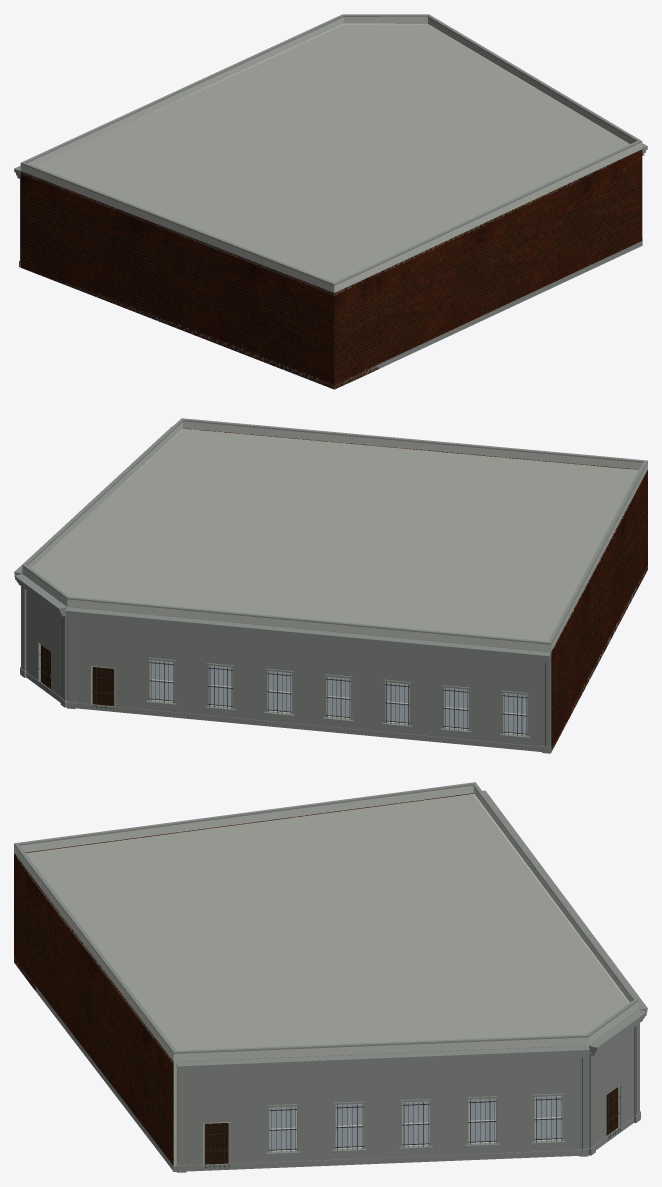
The model's file is building.glb.
The picture shows the model from 3 angles, top to bottom: view 1: azimuth 30°, elevation 25°; view 2: azimuth 150°, elevation 25°; view 3: azimuth 270°, elevation 25°; orthographic projection. The views are drawn at different scales.
Visible parts, largest first — view 1: roof/main:0/roof_slab#0001, main:0/edge0/z0/main:0/edge0/z0/wall_0_0, main:0/edge3/z0/main:0/edge3/z0/wall_0_0, roof/main:0/parapet#0001, roof/main:0/parapet_cap#0002, main:0/edge1/z0/main:0/edge1/z0/wall_0_0, roof/main:0/parapet_cap#0001, main:0/edge3/z0/plinth#0001, main:0/edge2/z0/main:0/edge2/z0/wall_0_0, main:0/edge0/z0/plinth#0001; view 2: roof/main:0/roof_slab#0001, main:0/edge7/z0/main:0/edge7/z0/coating_0_0_0/clip20, main:0/edge0/z0/main:0/edge0/z0/wall_0_0, roof/main:0/parapet#0001, roof/main:0/parapet_cap#0002, main:0/edge7/z0/main:0/edge7/z0/coating_0_0_0/clip2, main:0/edge7/z0/plinth#0001, main:0/edge6/z0/main:0/edge6/z0/coating_0_0_0, main:0/edge7/z0/proj_cornice_02/cornice_drip#0001, roof/main:0/parapet_cap#0001, main:0/edge7/z0/proj_cornice_02/cornice_step#0003, main:0/edge7/z0/proj_cornice_02/cornice_step#0001 (+23 smaller); view 3: roof/main:0/roof_slab#0001, main:0/edge5/z0/main:0/edge5/z0/coating_0_0_0, main:0/edge3/z0/main:0/edge3/z0/wall_0_0, roof/main:0/parapet#0001, roof/main:0/parapet_cap#0002, main:0/edge6/z0/main:0/edge6/z0/coating_0_0_0, main:0/edge5/z0/plinth#0001, main:0/edge5/z0/proj_cornice_02/cornice_drip#0001, roof/main:0/parapet_cap#0001, main:0/edge1/z0/main:0/edge1/z0/wall_0_0, main:0/edge5/z0/proj_cornice_02/cornice_step#0003, main:0/edge5/z0/proj_cornice_02/cornice_step#0002 (+12 smaller).
Part boxes in pixels (box(x1,y1,x2,y2)): roof/main:0/roof_slab#0001: box(20, 24, 633, 295); main:0/edge0/z0/main:0/edge0/z0/wall_0_0: box(20, 171, 334, 388); main:0/edge3/z0/main:0/edge3/z0/wall_0_0: box(376, 149, 642, 369); roof/main:0/parapet#0001: box(20, 17, 642, 292); roof/main:0/parapet_cap#0002: box(21, 14, 641, 284); main:0/edge1/z0/main:0/edge1/z0/wall_0_0: box(334, 280, 362, 389); roof/main:0/parapet_cap#0001: box(20, 16, 642, 285); main:0/edge3/z0/plinth#0001: box(376, 241, 642, 369); main:0/edge2/z0/main:0/edge2/z0/wall_0_0: box(362, 274, 376, 376); main:0/edge0/z0/plinth#0001: box(22, 268, 334, 389); roof/main:0/roof_slab#0001: box(31, 428, 647, 651); main:0/edge7/z0/main:0/edge7/z0/coating_0_0_0/clip20: box(67, 607, 551, 696); main:0/edge0/z0/main:0/edge0/z0/wall_0_0: box(551, 470, 647, 750); roof/main:0/parapet#0001: box(22, 421, 647, 651); roof/main:0/parapet_cap#0002: box(23, 418, 647, 643); main:0/edge7/z0/main:0/edge7/z0/coating_0_0_0/clip2: box(115, 698, 551, 747); main:0/edge7/z0/plinth#0001: box(76, 703, 551, 752); main:0/edge6/z0/main:0/edge6/z0/coating_0_0_0: box(23, 574, 67, 700); main:0/edge7/z0/proj_cornice_02/cornice_drip#0001: box(65, 607, 551, 656); roof/main:0/parapet_cap#0001: box(22, 420, 647, 644); main:0/edge7/z0/proj_cornice_02/cornice_step#0003: box(65, 611, 551, 659); main:0/edge7/z0/proj_cornice_02/cornice_step#0001: box(67, 616, 550, 662); roof/main:0/roof_slab#0001: box(14, 794, 629, 1064); main:0/edge5/z0/main:0/edge5/z0/coating_0_0_0: box(176, 1045, 588, 1165); main:0/edge3/z0/main:0/edge3/z0/wall_0_0: box(35, 882, 173, 1165); roof/main:0/parapet#0001: box(14, 785, 638, 1061); roof/main:0/parapet_cap#0002: box(14, 782, 637, 1052); main:0/edge6/z0/main:0/edge6/z0/coating_0_0_0: box(588, 1010, 637, 1149); main:0/edge5/z0/plinth#0001: box(186, 1150, 579, 1171); main:0/edge5/z0/proj_cornice_02/cornice_drip#0001: box(176, 1045, 589, 1067); roof/main:0/parapet_cap#0001: box(14, 784, 638, 1053); main:0/edge1/z0/main:0/edge1/z0/wall_0_0: box(14, 853, 27, 980); main:0/edge5/z0/proj_cornice_02/cornice_step#0003: box(176, 1051, 589, 1069); main:0/edge5/z0/proj_cornice_02/cornice_step#0002: box(177, 1053, 588, 1071).
Bounding box in the file's own units: 29.13 × 5.87 × 28.28.
Materials: 8 (2 with a texture image).
